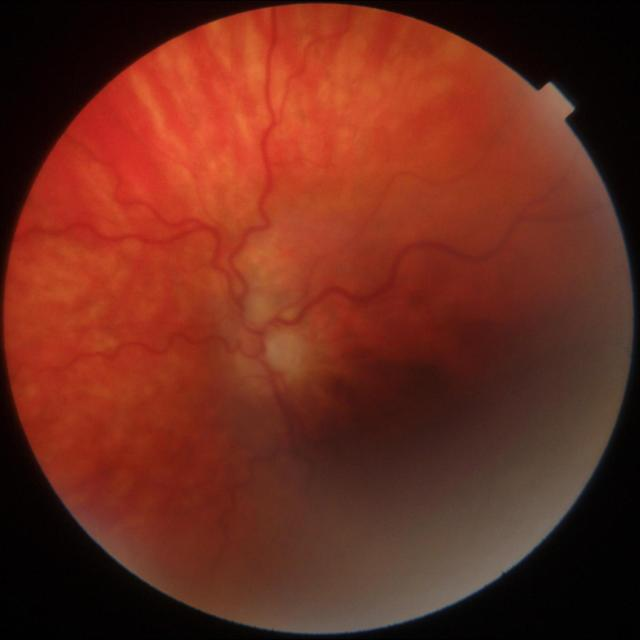OC: (263, 330, 300, 369)
OD: (232, 299, 307, 393)
